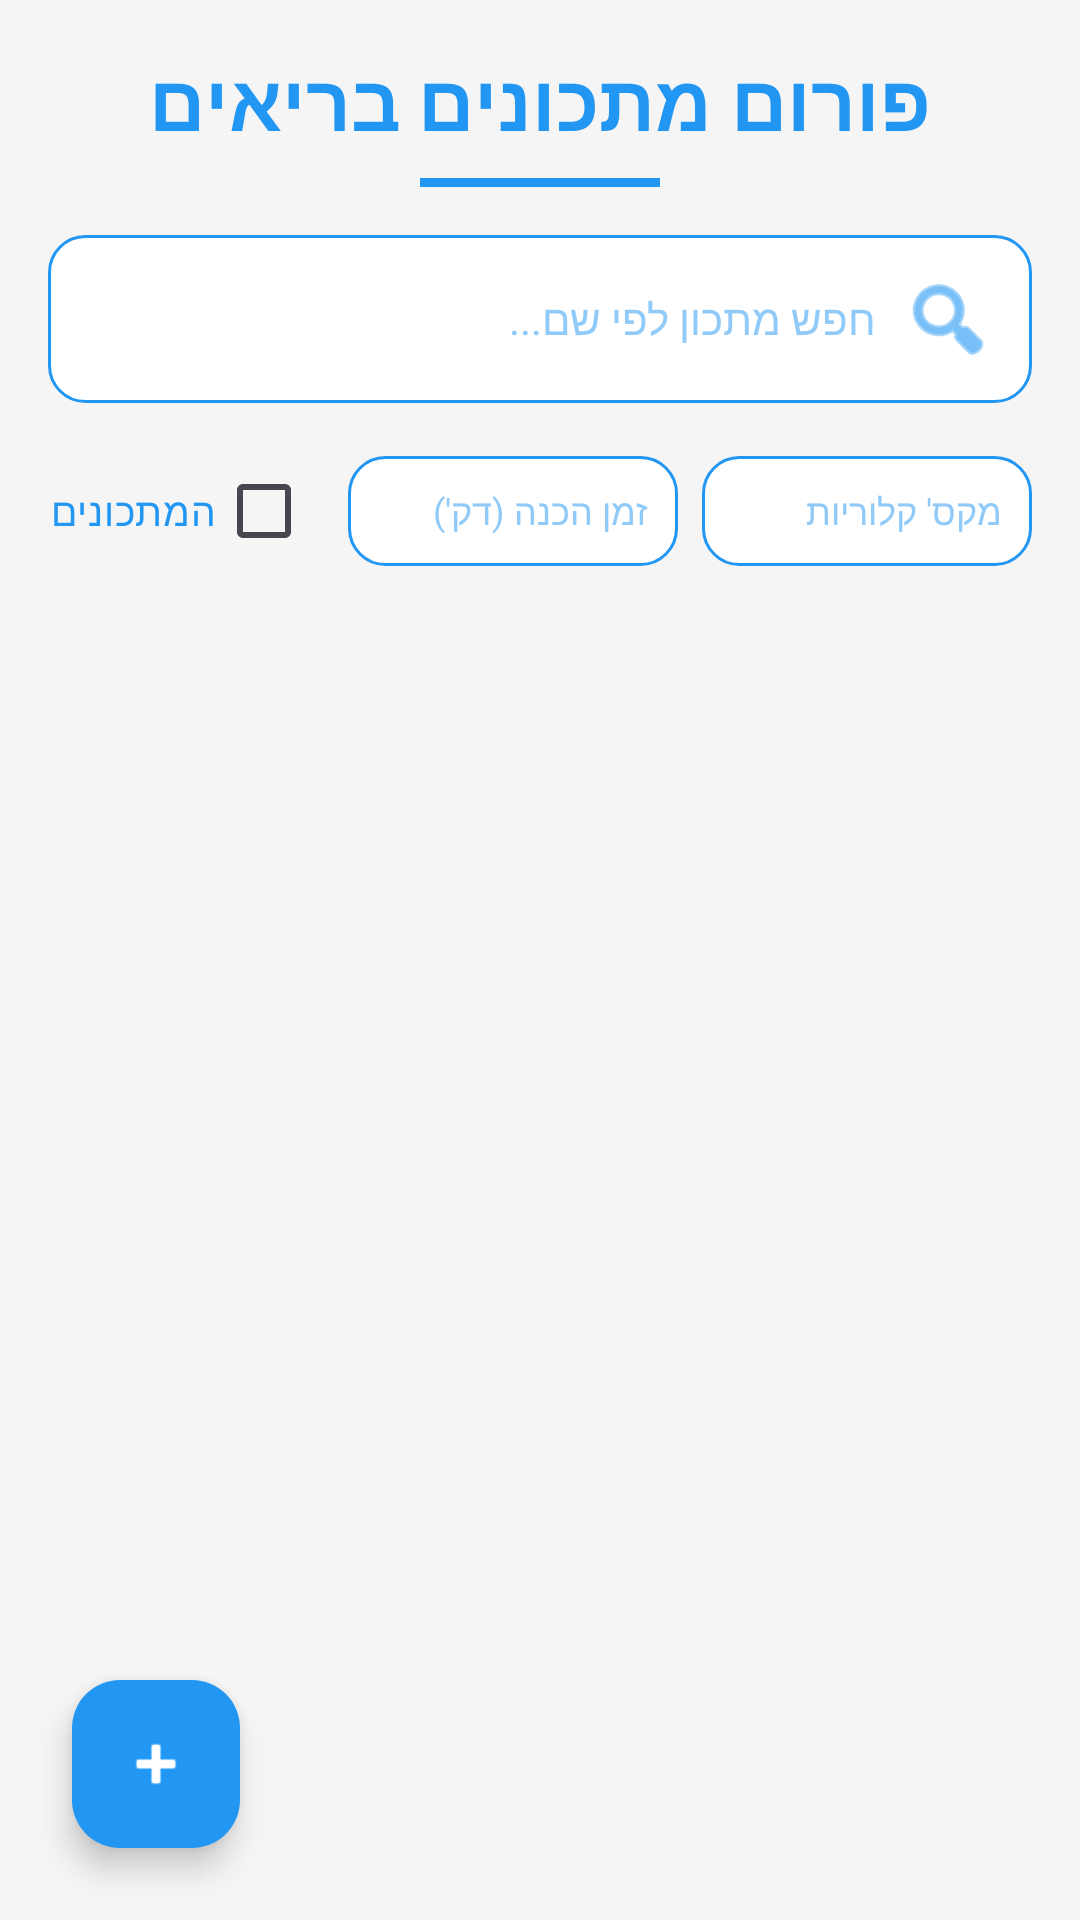

Icons on this 1080x1920 Android screen, each with its box as [x1, y1, x2, y2]:
add: [72, 1680, 240, 1848]
